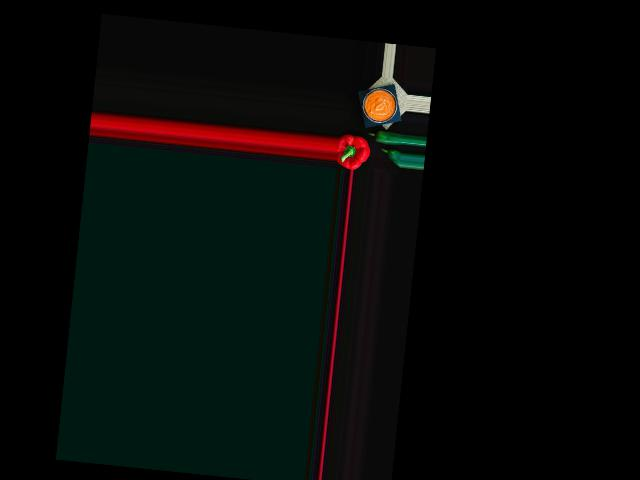bell_pepper: (336, 133, 370, 170)
